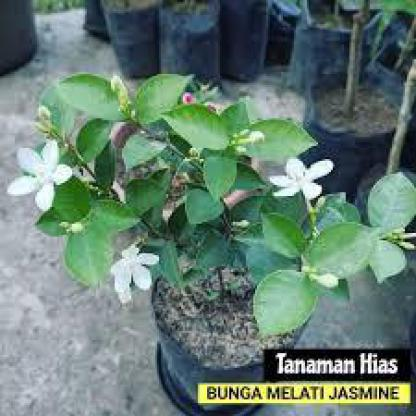Melati: (5, 140, 86, 214), (254, 155, 345, 205), (110, 239, 169, 308)
